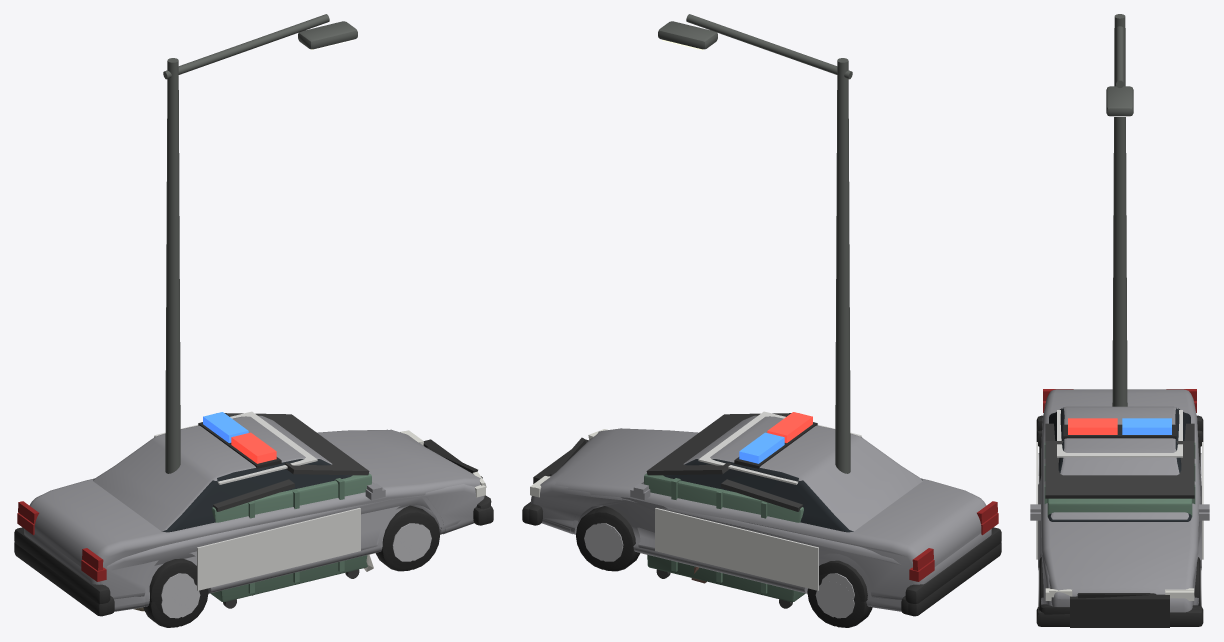
The model's file is props.glb.
3 renders of one model, left to right at view 1: azimuth 30°, elevation 25°; view 2: azimuth 150°, elevation 25°; view 3: azimuth 270°, elevation 25°, orthographic. The views are drawn at different scales.
Visible parts, largest first — view 1: car_wreck, car_police, streetlight, dumpster, car_sedan; view 2: car_wreck, car_police, streetlight, dumpster, car_sedan; view 3: car_wreck, dumpster, car_police, streetlight, car_sedan.
Boxes of the visible parts, left/top/right/bottom form: car_wreck: left=14, top=415, right=491, bottom=615; car_police: left=14, top=411, right=486, bottom=627; streetlight: left=163, top=14, right=357, bottom=473; dumpster: left=210, top=413, right=371, bottom=608; car_sedan: left=101, top=429, right=493, bottom=626; car_wreck: left=528, top=415, right=1001, bottom=603; car_police: left=529, top=411, right=1001, bottom=627; streetlight: left=658, top=14, right=852, bottom=473; dumpster: left=644, top=413, right=805, bottom=608; car_sedan: left=522, top=473, right=914, bottom=626; car_wreck: left=1030, top=389, right=1209, bottom=614; dumpster: left=1044, top=423, right=1195, bottom=517; car_police: left=1036, top=410, right=1203, bottom=627; streetlight: left=1106, top=14, right=1133, bottom=406; car_sedan: left=1030, top=401, right=1209, bottom=626.
Size of the model in its own units: 4.92 by 6.3 by 1.98.
